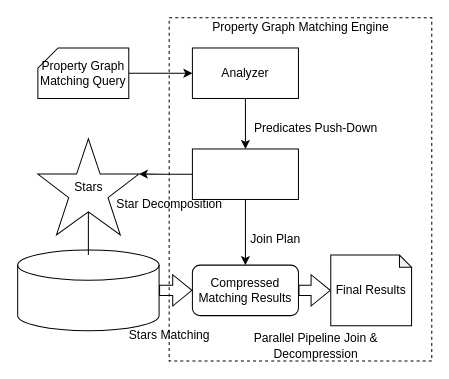
This 449x379 diagram has some shape labels left out. The centre of each missing label's shape, as x and y in pixels:
Planner: (244,173)
Vertex-Centric Property Graph Storage Engine: (88,290)
